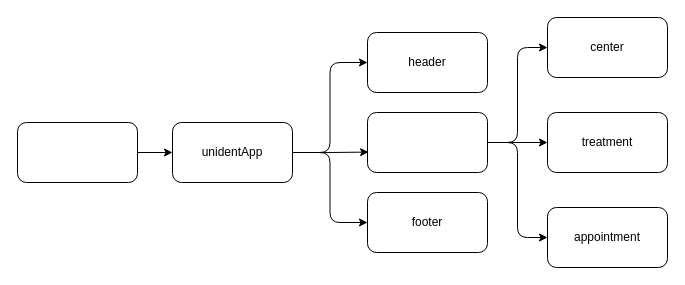
This 685x285 diagram has some shape labels left out. The shapes that lost their labels are listed below. From the top down, each one's centre as x and y in pixels, then its label:
[77,152]: main
[427,142]: body
